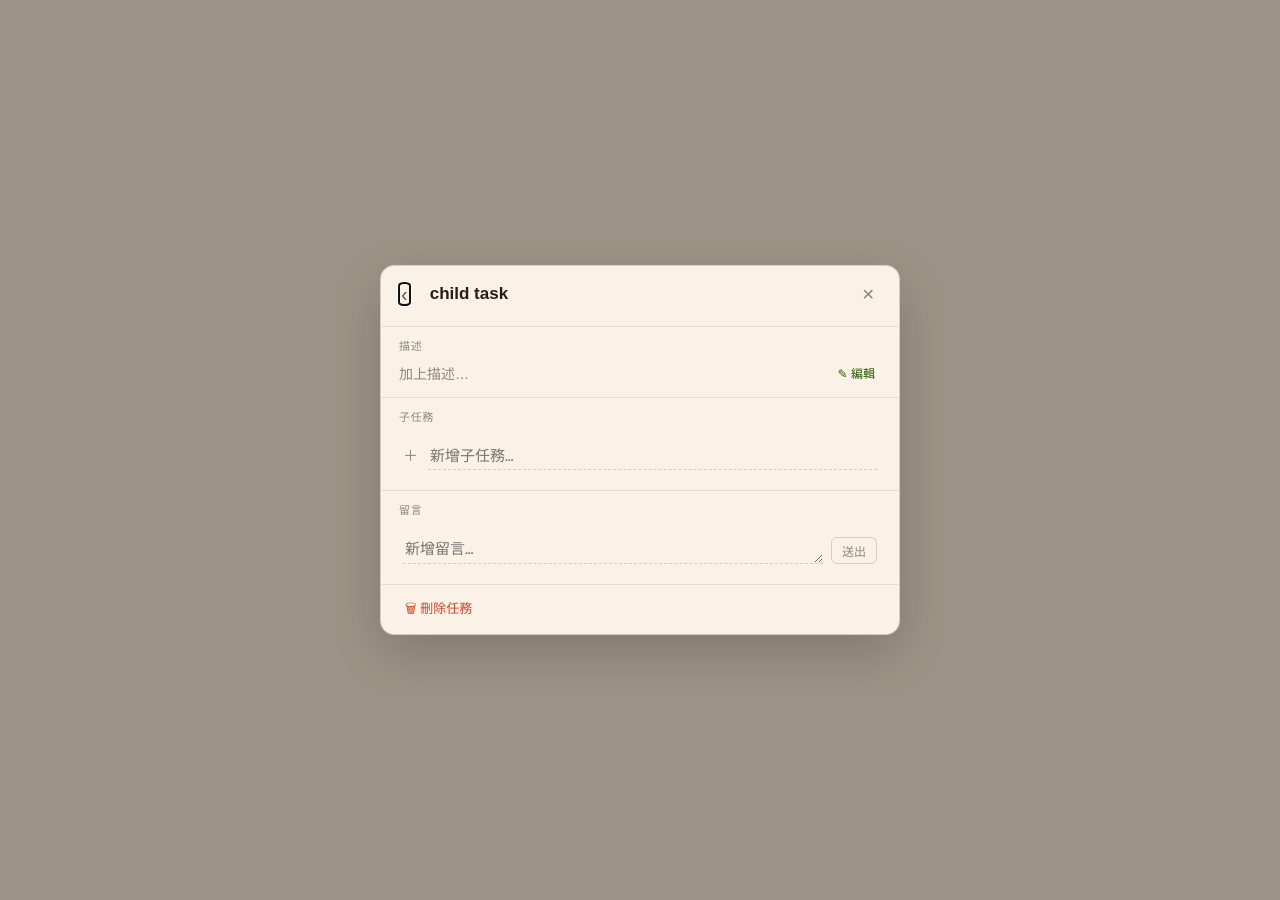
Test: TaskDetailModal › deletes a fetched subtask: cancels it and returns to the parent
Check: the field showing "child task" is shown, box x1=430 y1=282 x2=846 y2=306
Click the button "🗑 刪除任務".
click(439, 610)  # box x1=399 y1=597 x2=478 y2=622
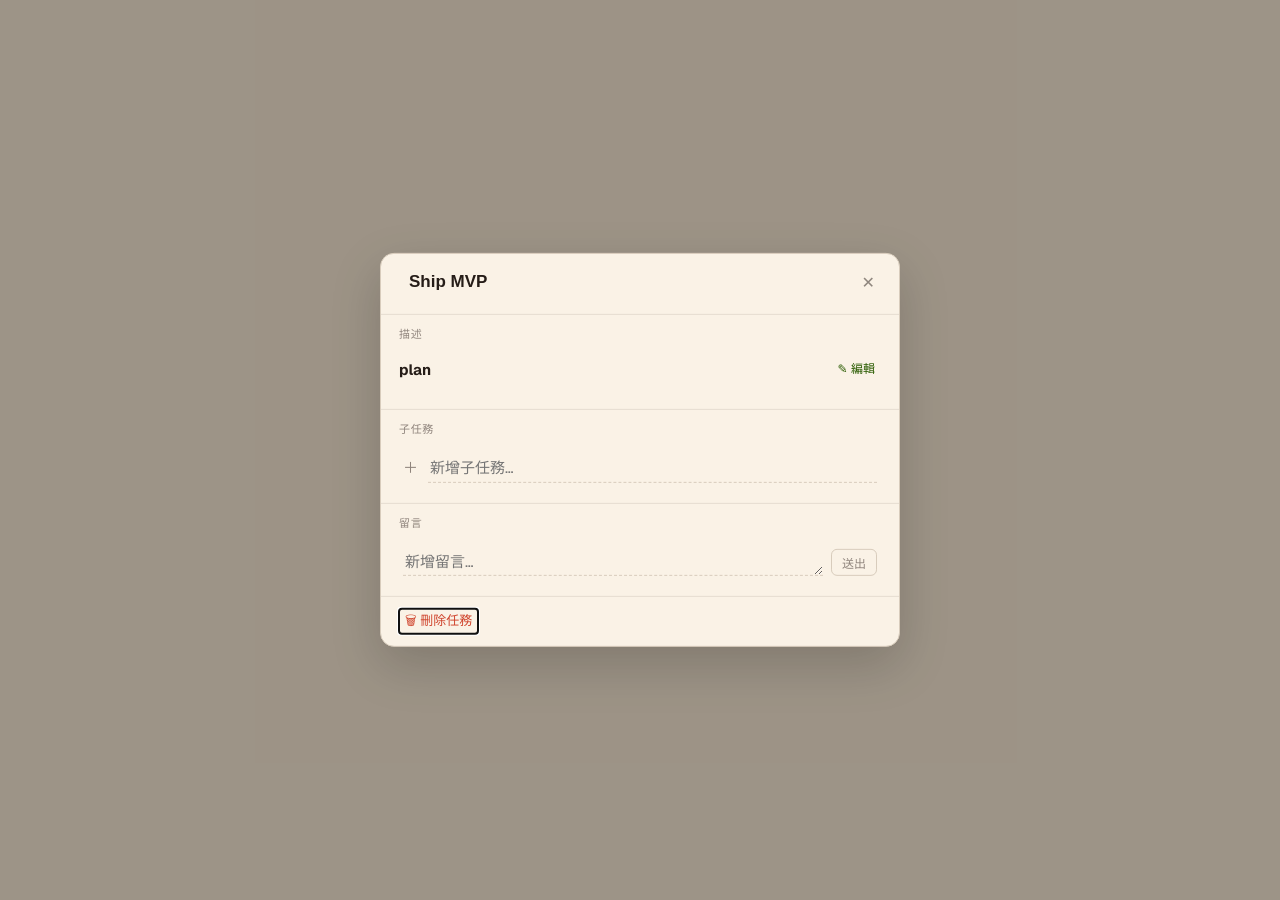
Check: the field showing "Ship MVP" is shown, box x1=409 y1=270 x2=846 y2=294
